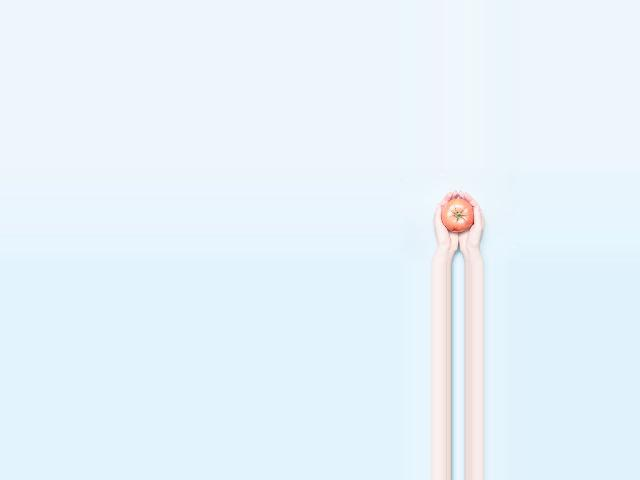tomato: (441, 198, 474, 232)
